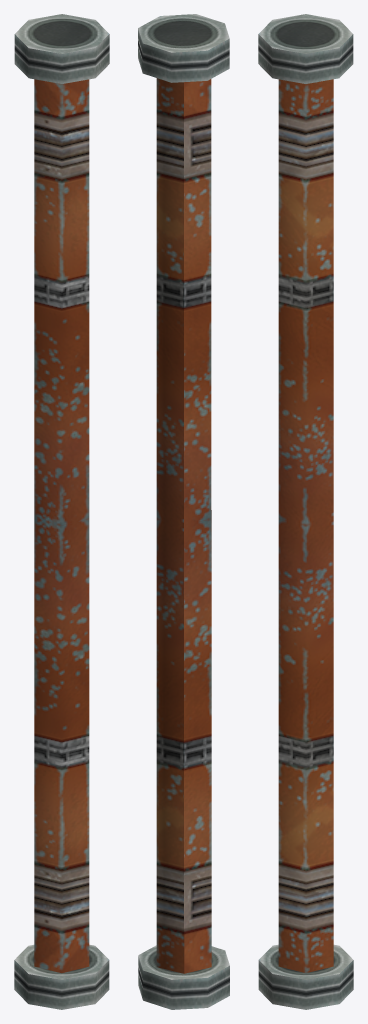
The model's file is Pipe_long_straight1.FBX.
3 views of the same model, side by side, from view 1: azimuth 90°, elevation 25°; view 2: azimuth 210°, elevation 25°; view 3: azimuth 270°, elevation 25° (orthographic).
Parts seen in each view (by area): view 1: Pipe_long_straight1; view 2: Pipe_long_straight1; view 3: Pipe_long_straight1.
Part boxes in pixels (<box>): Pipe_long_straight1: <box>14,14,109,1009</box>; Pipe_long_straight1: <box>138,14,229,1009</box>; Pipe_long_straight1: <box>258,14,353,1009</box>.
Bounding box in the file's own units: 36 × 400 × 36.04.
